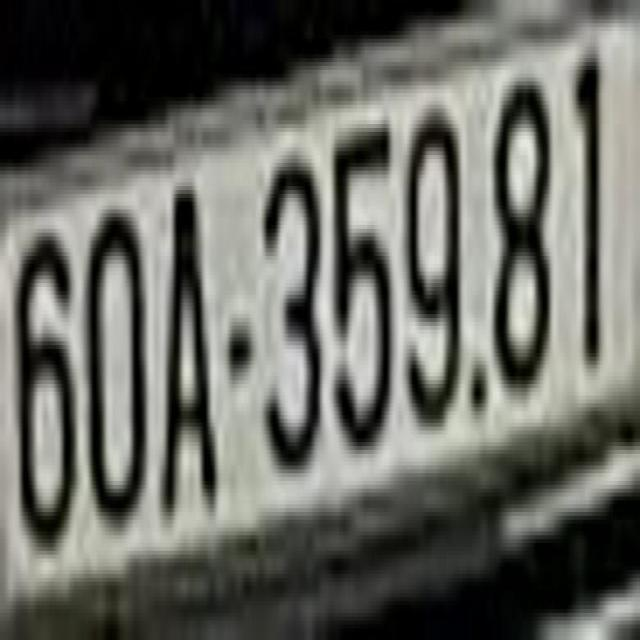0: (85, 210, 146, 528)
1: (574, 47, 603, 384)
3: (258, 140, 320, 473)
5: (330, 109, 395, 462)
6: (16, 218, 76, 562)
8: (492, 73, 554, 396)
9: (406, 101, 461, 434)
A: (160, 182, 218, 493)
